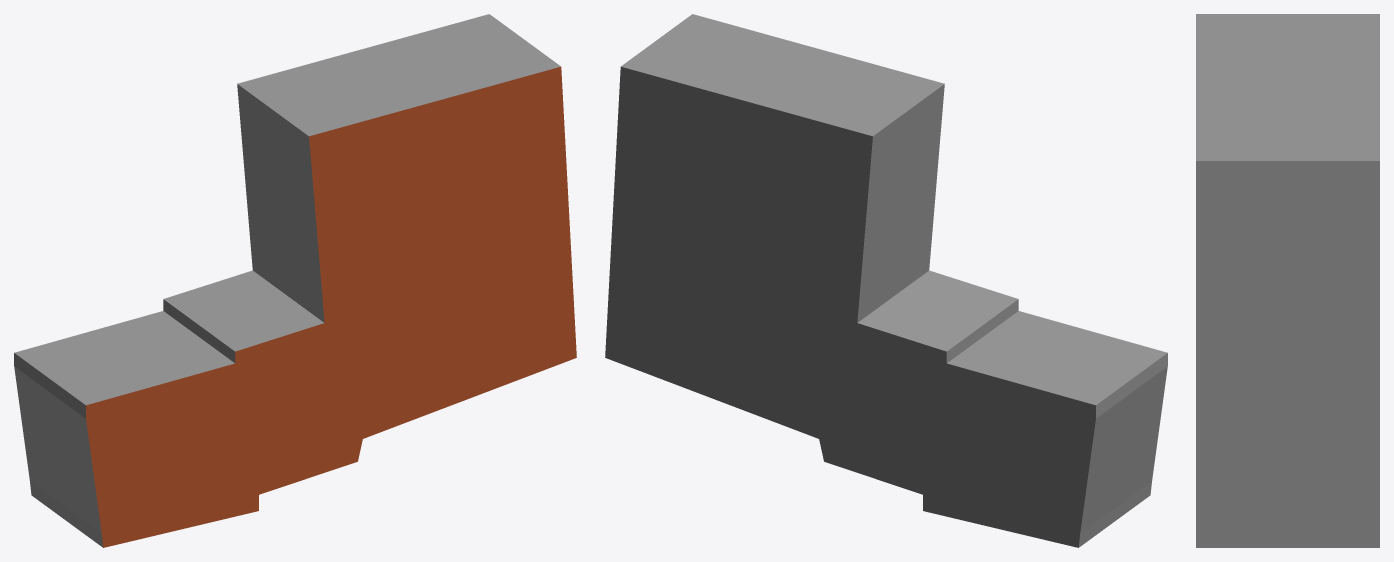
The model's file is construction_7114_assumed_A_Casa_h6m.obj.
3 renders of one model, left to right at view 1: azimuth 30°, elevation 25°; view 2: azimuth 150°, elevation 25°; view 3: azimuth 270°, elevation 25°, orthographic. The views are drawn at different scales.
Parts seen in each view (by area): view 1: construction_7114_assumed_A_Casa; view 2: construction_7114_assumed_A_Casa; view 3: construction_7114_assumed_A_Casa.
Part boxes in pixels (x1,y1,x2,y2): construction_7114_assumed_A_Casa: (14,14,576,547); construction_7114_assumed_A_Casa: (605,14,1167,547); construction_7114_assumed_A_Casa: (1196,14,1379,547).
Size of the model in its own units: 23.66 by 17.07 by 6.
